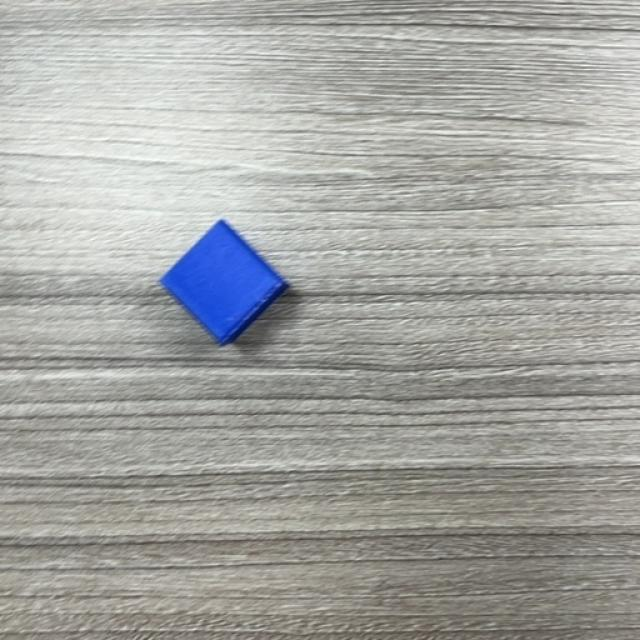Azul: (158, 220, 289, 348)
